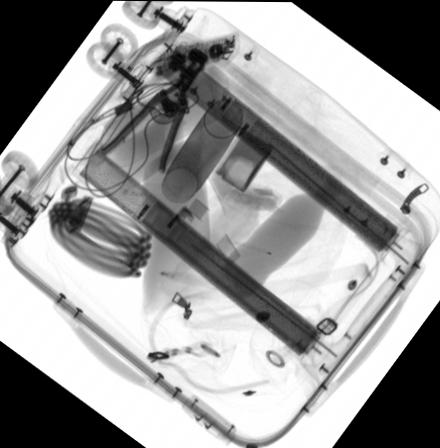Pliers: (98, 46, 207, 170)
